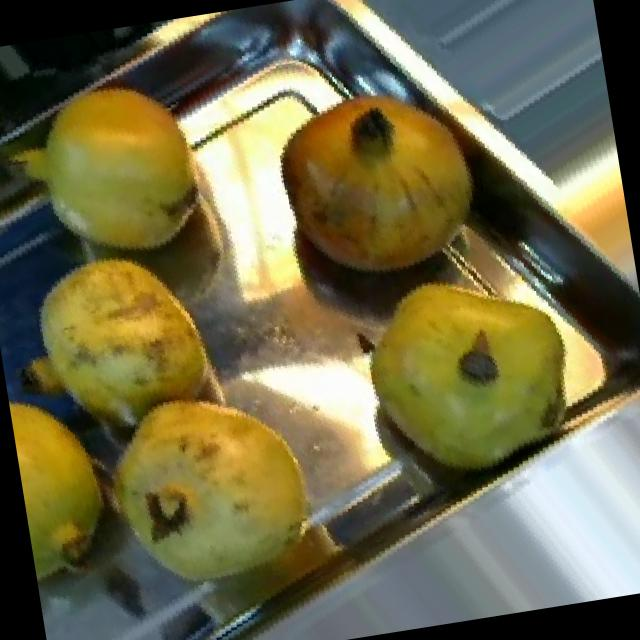fruit: (318, 223, 634, 520), (234, 40, 526, 322), (76, 356, 352, 621), (0, 40, 251, 292), (0, 217, 243, 457)
